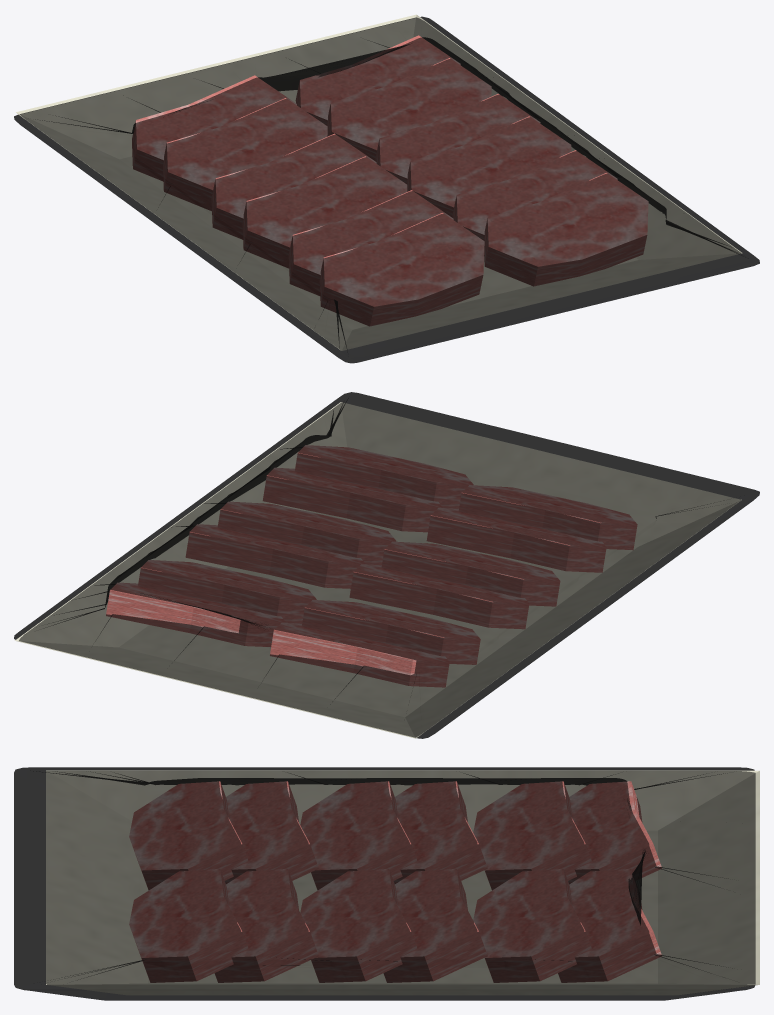
The model's file is PIG_Wrap_Meat.glb.
The picture shows the model from 3 angles, top to bottom: view 1: azimuth 30°, elevation 25°; view 2: azimuth 150°, elevation 25°; view 3: azimuth 270°, elevation 25°; orthographic projection. The views are drawn at different scales.
Visible parts, largest first — view 1: wrap.001, Packaged meat.001; view 2: wrap.001, Packaged meat.001; view 3: wrap.001, Packaged meat.001.
Part boxes in pixels (x1,y1,x2,y2): wrap.001: [14, 16, 759, 363]; Packaged meat.001: [16, 14, 742, 350]; wrap.001: [14, 392, 759, 738]; Packaged meat.001: [15, 402, 741, 738]; wrap.001: [14, 767, 755, 1000]; Packaged meat.001: [46, 770, 759, 994].
Bounding box in the file's own units: 3.64 × 0.4988 × 5.17.
Materials: 2 (2 with a texture image).
